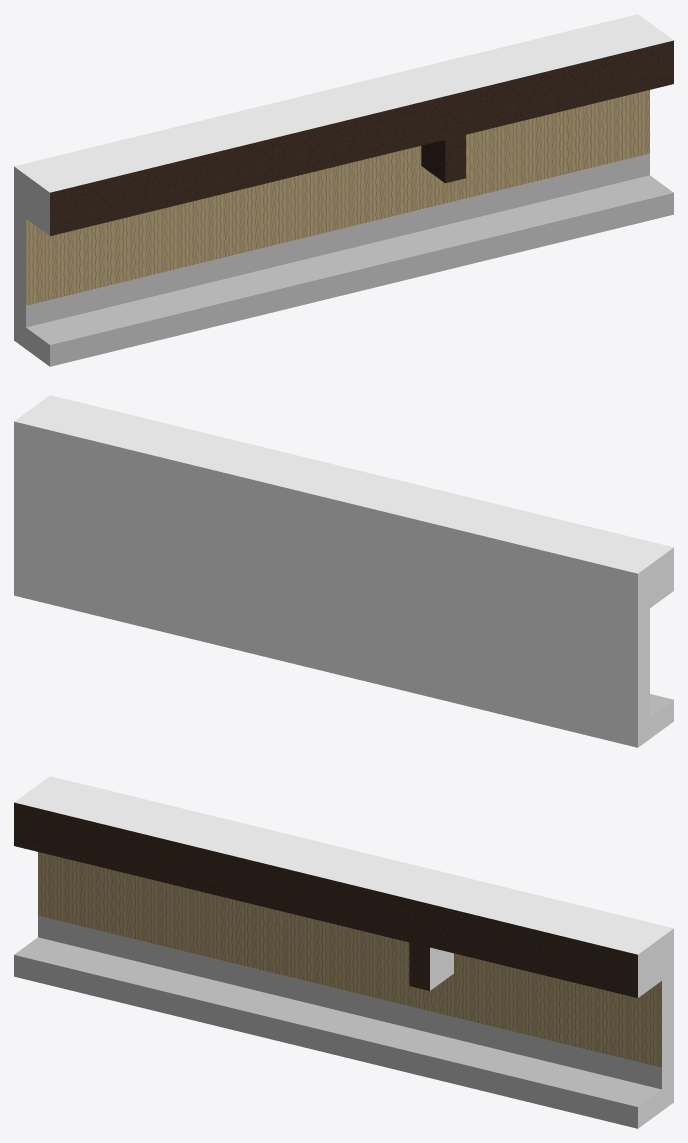
Rendered from Level1.dae.
3 views of the same model, one above another, from view 1: azimuth 30°, elevation 25°; view 2: azimuth 150°, elevation 25°; view 3: azimuth 330°, elevation 25° (orthographic).
Visible parts, largest first — view 1: SketchUp (×4); view 2: SketchUp; view 3: SketchUp (×4).
Boxes of the visible parts, box(x1,y1,x2,y2) form: SketchUp (×4): box(14, 14, 673, 366); SketchUp: box(14, 395, 673, 747); SketchUp (×4): box(14, 776, 673, 1128).
Bounding box in the file's own units: 360 × 36 × 96.
